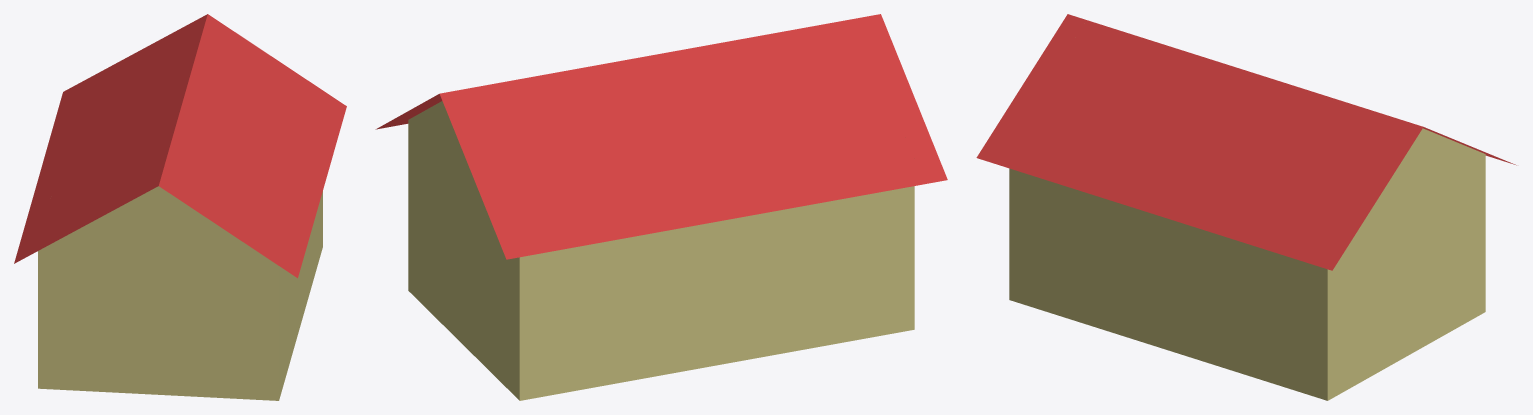
The picture shows the model from 3 angles, left to right: view 1: azimuth 30°, elevation 25°; view 2: azimuth 150°, elevation 25°; view 3: azimuth 270°, elevation 25°; orthographic projection. The views are drawn at different scales.
Parts seen in each view (by area): view 1: group_5, group_3, group_4; view 2: group_5, group_3, group_4; view 3: group_5, group_3, group_4.
Boxes of the visible parts, box(x1,y1,x2,y2) form: group_5: box(38, 186, 322, 400); group_3: box(38, 14, 346, 277); group_4: box(14, 14, 344, 278); group_5: box(408, 101, 914, 400); group_3: box(457, 14, 914, 237); group_4: box(375, 15, 947, 259); group_5: box(1009, 128, 1485, 400); group_3: box(976, 16, 1516, 270); group_4: box(981, 14, 1325, 268).
Bounding box in the file's own units: 22 × 23.15 × 11.14.
